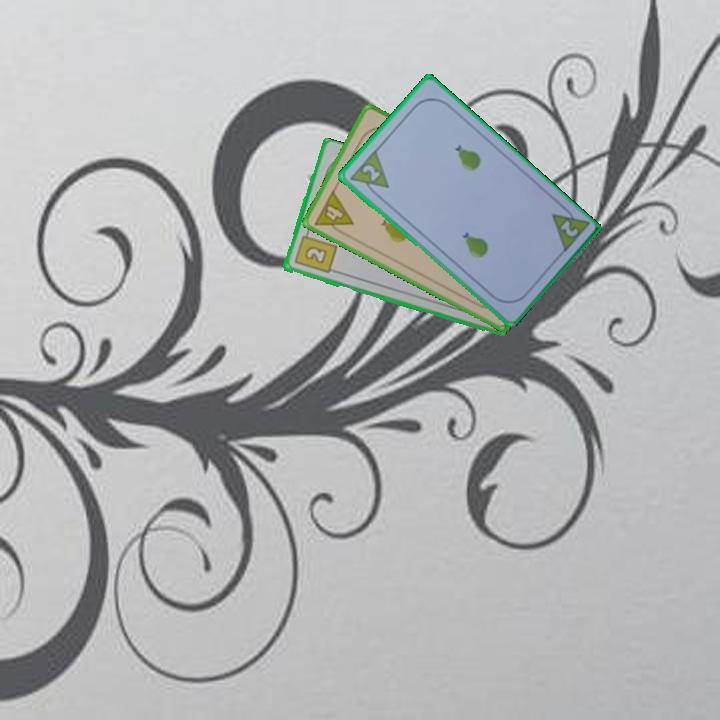2b: (291, 227, 339, 276)
2p: (346, 146, 392, 201), (556, 216, 581, 240)
4p: (311, 187, 356, 239)
